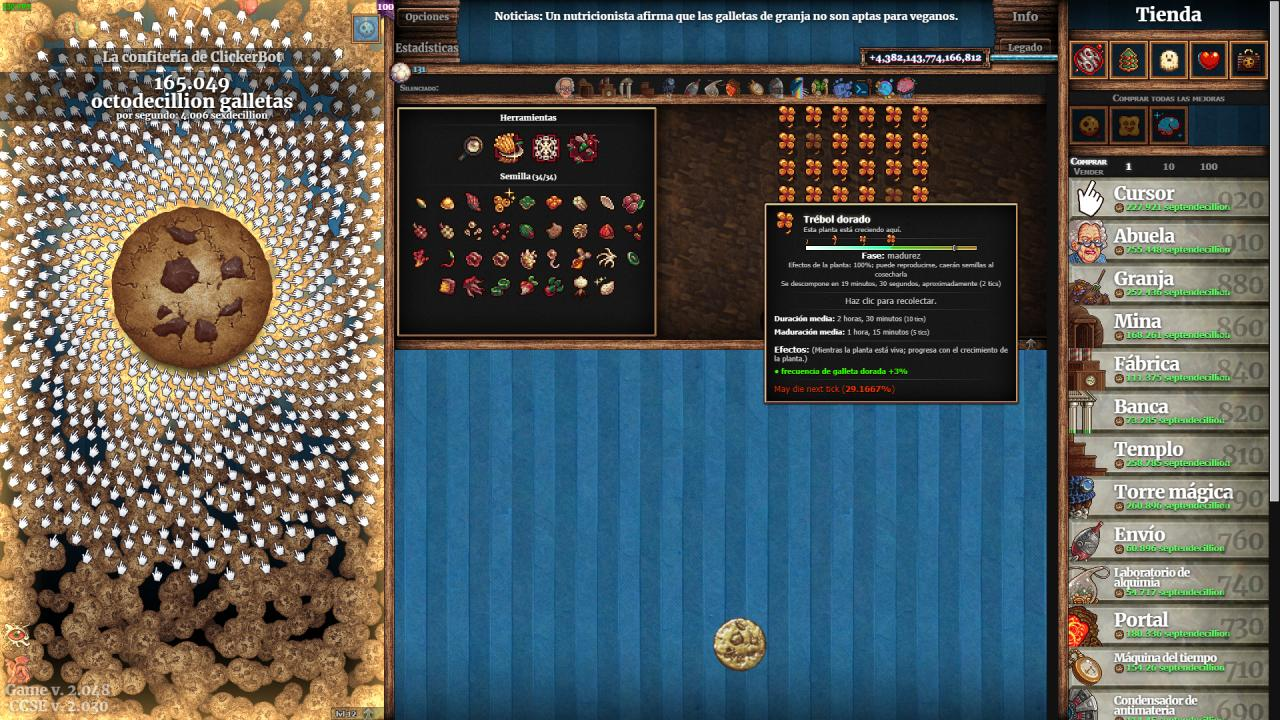GoldenCookie: (712, 616, 768, 673)
